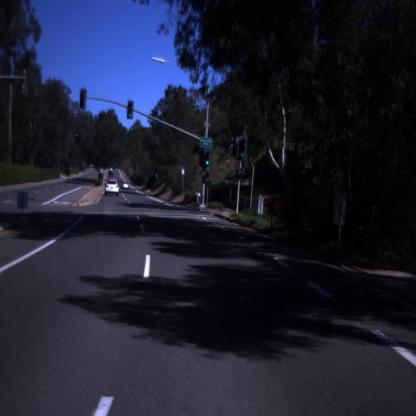trafficlight: (239, 138, 247, 160), (203, 147, 210, 168), (80, 90, 87, 110), (128, 100, 133, 118)
